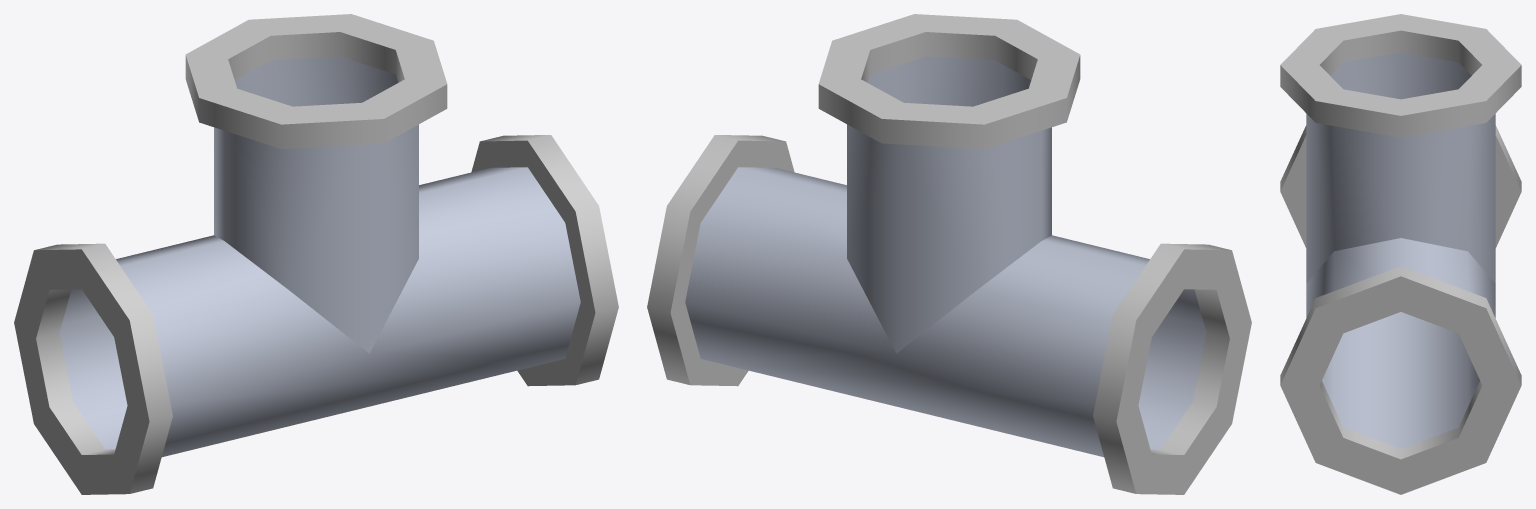
File: pipe-glass-large-side.obj
3 renders of one model, left to right at view 1: azimuth 30°, elevation 25°; view 2: azimuth 150°, elevation 25°; view 3: azimuth 270°, elevation 25°, orthographic. The views are drawn at different scales.
Visible parts, largest first — view 1: pipe-glass-large-side; view 2: pipe-glass-large-side; view 3: pipe-glass-large-side.
Boxes of the visible parts, x1,y1,x2,y2 form: pipe-glass-large-side: (14,14,618,494); pipe-glass-large-side: (647,14,1251,494); pipe-glass-large-side: (1280,14,1521,494).
Bounding box in the file's own units: 2 × 1.5 × 1.
